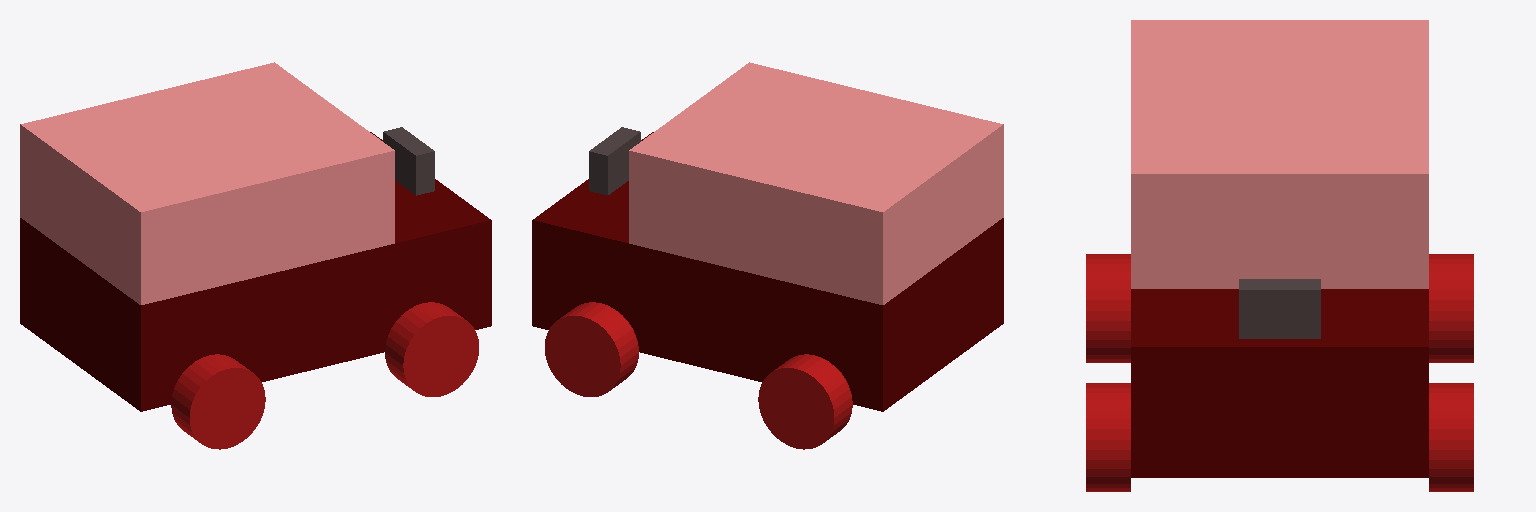
robot.urdf — mycar:
<?xml version="1.0" ?>
<!-- =================================================================================== -->
<!-- |    This document was autogenerated by xacro from origincar.xacro                | -->
<!-- |    EDITING THIS FILE BY HAND IS NOT RECOMMENDED                                 | -->
<!-- =================================================================================== -->
<robot name="mycar">
  <link name="base_link">
    <visual>
      <geometry>
        <box size="0.276 0.164 0.08"/>
      </geometry>
      <origin rpy="0 0 0" xyz="0 0 0.07"/>
      <material name="rgba(102,10,10,1)">
        <color rgba="0.4 0.0392156862745098 0.0392156862745098 1"/>
      </material>
    </visual>
  </link>
  <link name="board_link">
    <visual>
      <geometry>
        <box size="0.200 0.164 0.06999999999999999"/>
      </geometry>
      <origin rpy="0 0 0" xyz="0 0 0.034999999999999996"/>
      <material name="rgba(246,152,152,1)">
        <color rgba="0.9647058823529412 0.596078431372549 0.596078431372549 1"/>
      </material>
    </visual>
  </link>
  <link name="camera">
    <visual>
      <geometry>
        <box size="0.015 0.045 0.03"/>
      </geometry>
      <origin rpy="0 0 0" xyz="0 0 0.015"/>
      <material name="rgba(93,78,78,1)">
        <color rgba="0.36470588235294116 0.3058823529411765 0.3058823529411765 1"/>
      </material>
    </visual>
  </link>
  <joint name="camera_joint" type="fixed">
    <parent link="base_link"/>
    <child link="camera"/>
    <origin rpy="0 0 0" xyz="0.12050000000000001 0 0.11"/>
  </joint>
  <joint name="board_joint" type="fixed">
    <parent link="base_link"/>
    <child link="board_link"/>
    <origin rpy="0 0 0" xyz="-0.038000000000000006 0 0.11"/>
    <axis xyz="0 1 0"/>
  </joint>
  <link name="down_left_Link">
    <visual>
      <origin rpy="-1.5707963 0 0" xyz="0 0.0 0"/>
      <geometry>
        <cylinder length="0.025" radius="0.03"/>
      </geometry>
      <material name="">
        <color rgba="0.7450980392156863 0.12941176470588237 0.12941176470588237 1"/>
      </material>
    </visual>
  </link>
  <joint name="down_left_joint" type="continuous">
    <parent link="base_link"/>
    <child link="down_left_Link"/>
    <origin rpy="0 0 0" xyz="-0.0841 0.0945 0.03"/>
    <axis xyz="0 1 0"/>
  </joint>
  <link name="down_right_Link">
    <visual>
      <origin rpy="1.5707963 0 0" xyz="0 0.0 0"/>
      <geometry>
        <cylinder length="0.025" radius="0.03"/>
      </geometry>
      <material name="">
        <color rgba="0.7450980392156863 0.12941176470588237 0.12941176470588237 1"/>
      </material>
    </visual>
  </link>
  <joint name="down_right_joint" type="continuous">
    <parent link="base_link"/>
    <child link="down_right_Link"/>
    <origin rpy="0 0 0" xyz="-0.0841 -0.0945 0.03"/>
    <axis xyz="0 -1 0"/>
  </joint>
  <link name="up_left_Link">
    <visual>
      <origin rpy="-1.5707963 0 0" xyz="0 0.0 0"/>
      <geometry>
        <cylinder length="0.025" radius="0.03"/>
      </geometry>
      <material name="">
        <color rgba="0.7450980392156863 0.12941176470588237 0.12941176470588237 1"/>
      </material>
    </visual>
  </link>
  <joint name="up_left_joint" type="continuous">
    <parent link="base_link"/>
    <child link="up_left_Link"/>
    <origin rpy="0 0 0" xyz="0.0841 0.0945 0.03"/>
    <axis xyz="0 1 0"/>
  </joint>
  <link name="up_right_Link">
    <visual>
      <origin rpy="1.5707963 0 0" xyz="0 0.0 0"/>
      <geometry>
        <cylinder length="0.025" radius="0.03"/>
      </geometry>
      <material name="">
        <color rgba="0.7450980392156863 0.12941176470588237 0.12941176470588237 1"/>
      </material>
    </visual>
  </link>
  <joint name="up_right_joint" type="continuous">
    <parent link="base_link"/>
    <child link="up_right_Link"/>
    <origin rpy="0 0 0" xyz="0.0841 -0.0945 0.03"/>
    <axis xyz="0 -1 0"/>
  </joint>
</robot>

--- What the picture shows (computed from the rendered views, not written in the file) ---
The picture shows the robot from 3 angles, left to right: view 1: azimuth 30°, elevation 25°; view 2: azimuth 150°, elevation 25°; view 3: azimuth 270°, elevation 25°; orthographic projection.
Robot: mycar — 7 links, 6 joints (4 continuous, 2 fixed); root link base_link; default pose: all joints at 0.
Visible links, largest first — view 1: board_link, base_link, down_right_Link, up_right_Link, camera; view 2: board_link, base_link, down_left_Link, up_left_Link, camera; view 3: board_link, base_link, camera, down_left_Link, down_right_Link, up_left_Link, up_right_Link.
Link boxes in pixels (x1,y1,x2,y2): board_link: (20,62,394,304); base_link: (20,132,491,411); down_right_Link: (171,354,265,449); up_right_Link: (385,302,478,396); camera: (383,127,434,195); board_link: (629,62,1003,304); base_link: (532,132,1003,411); down_left_Link: (758,354,852,449); up_left_Link: (545,302,638,396); camera: (589,127,640,195); board_link: (1131,20,1428,288); base_link: (1131,289,1428,477); camera: (1239,279,1320,338); down_left_Link: (1429,254,1473,362); down_right_Link: (1086,254,1130,362); up_left_Link: (1429,383,1473,491); up_right_Link: (1086,383,1130,491).
Bounding box of the posed robot: 0.276 × 0.214 × 0.18 m (x, y, z).
Geometry: primitives only (box / cylinder / sphere), no mesh files.